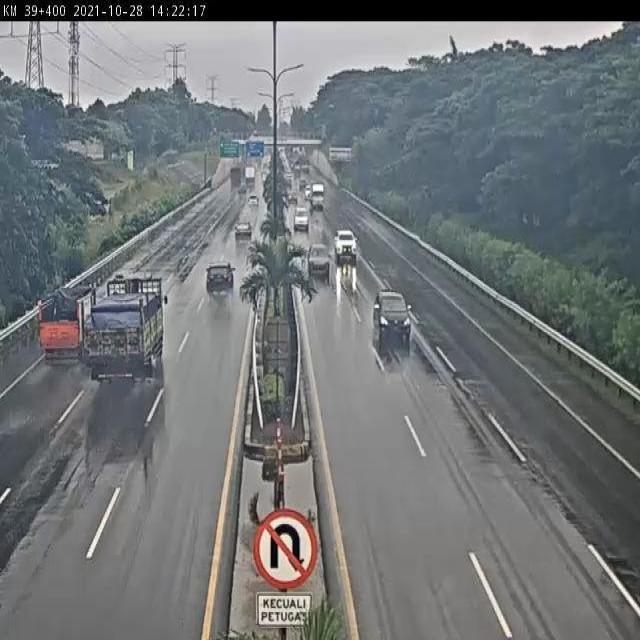ARABA: (374, 289, 412, 344), (204, 262, 235, 298), (306, 242, 332, 282), (331, 227, 360, 261)
KAMYONET: (37, 280, 96, 371)
TIR: (82, 273, 166, 384)
